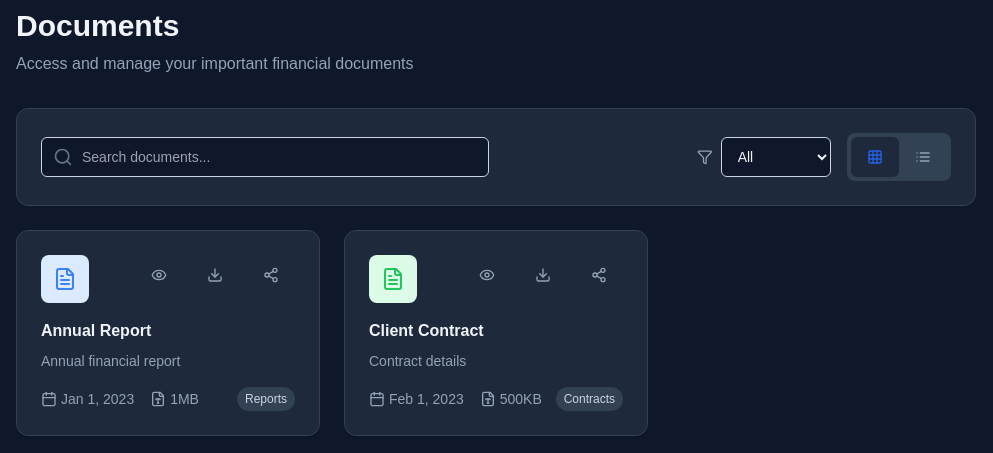
Test: DocumentsPage › filters documents based on search input and category selection
Expected: the heading "Annual Report" is shown, [41, 322, 151, 339]
Expected: the heading "Client Contract" is shown, [369, 322, 484, 339]
Type "Contract" into the field with placeholder "Search documents...".
click(265, 157); type("Contract")  # box [41, 137, 489, 177]
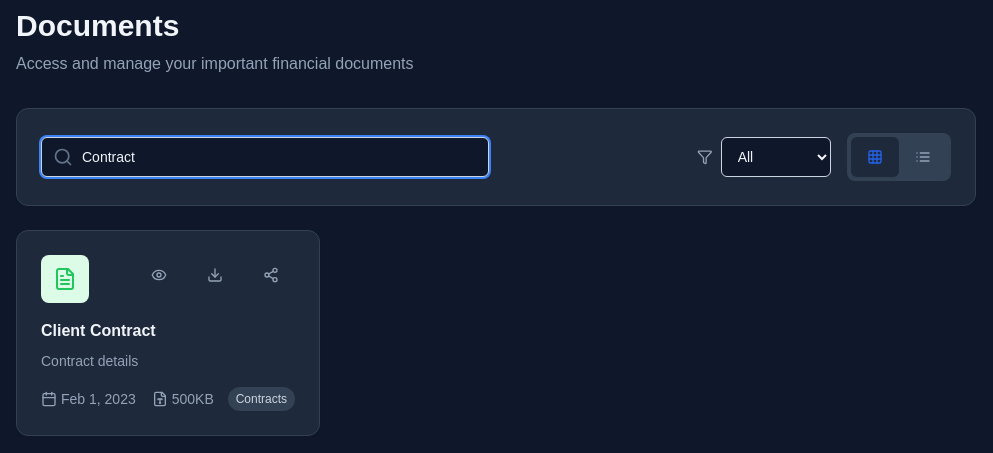
Expected: the heading "Client Contract" is shown, [41, 322, 156, 339]
Result: the heading "Annual Report" is gone
Clear the field with placeholder "Search documents..." at (265, 157), box [41, 137, 489, 177]
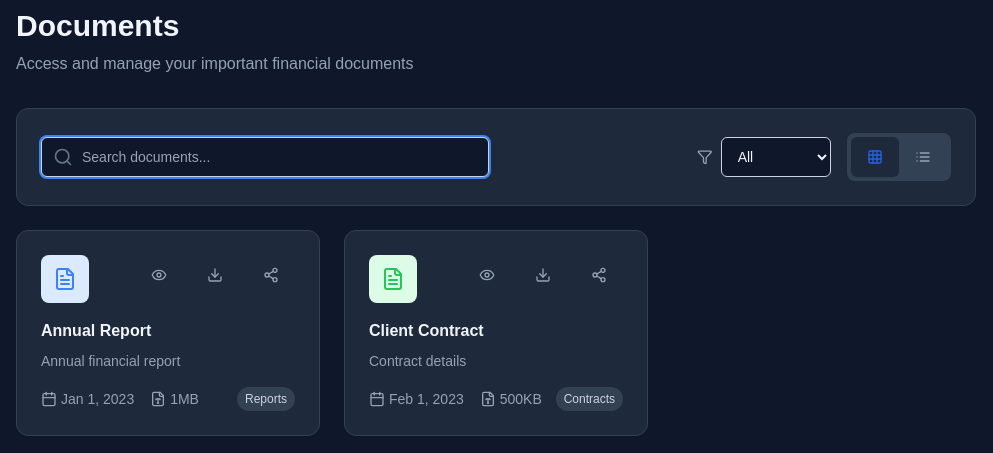
Select "Reports" in the dropdown at (776, 157), box [721, 137, 831, 177]
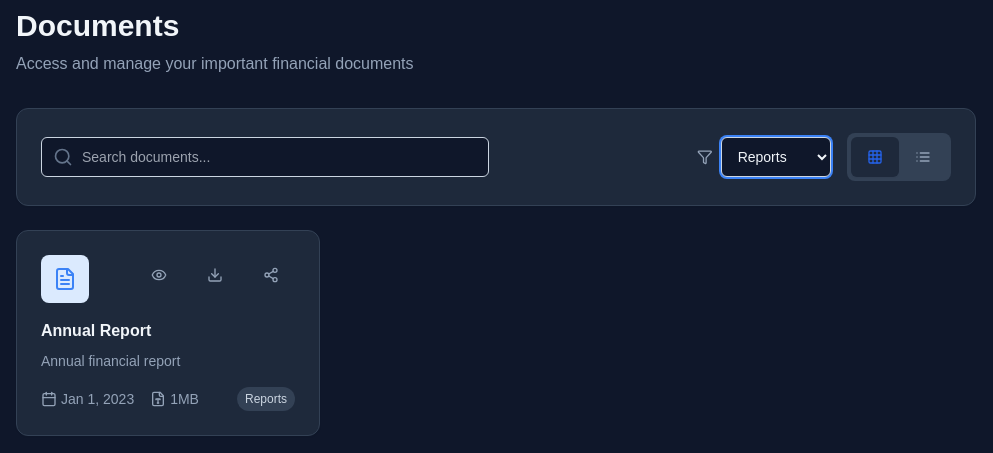
Result: the heading "Annual Report" is shown at [41, 322, 151, 339]
Result: the heading "Client Contract" is gone
